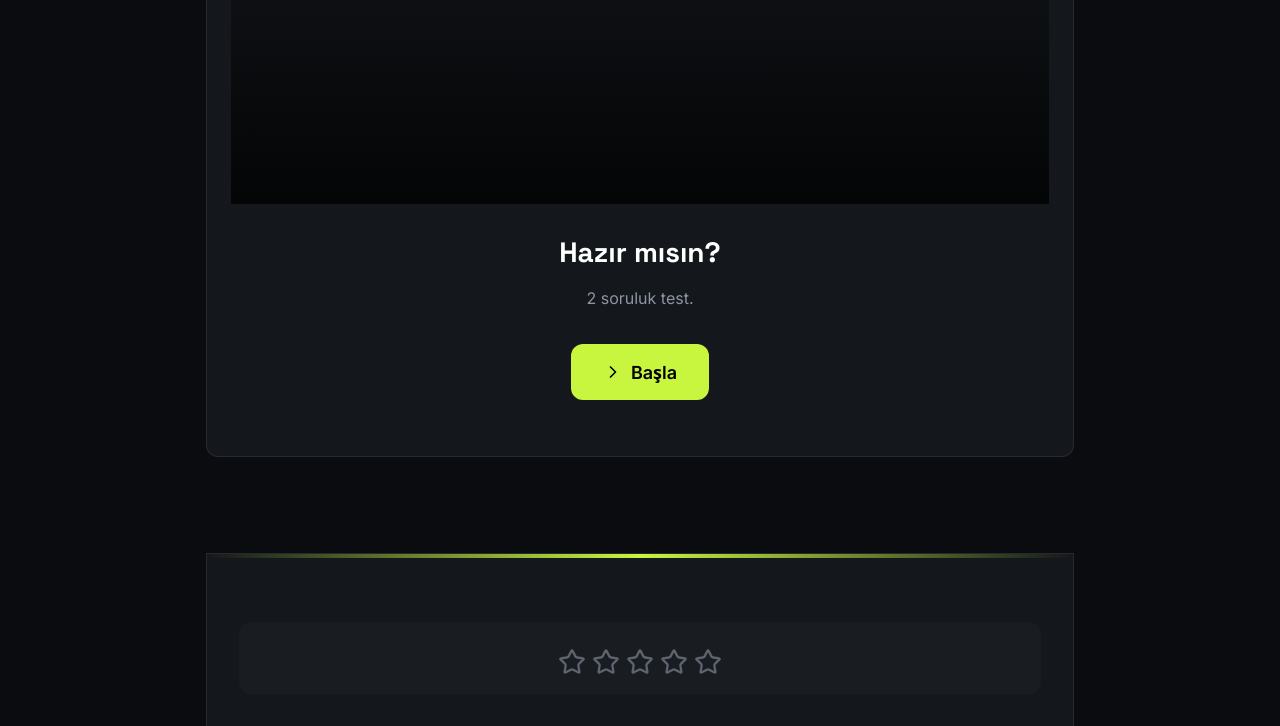
it: QuizDetail Component › should navigate between questions
(page scrolled)
Start quiz
Step 1. Click the button "Başla" → (640, 372), box [571,344,709,400]
(page scrolled)
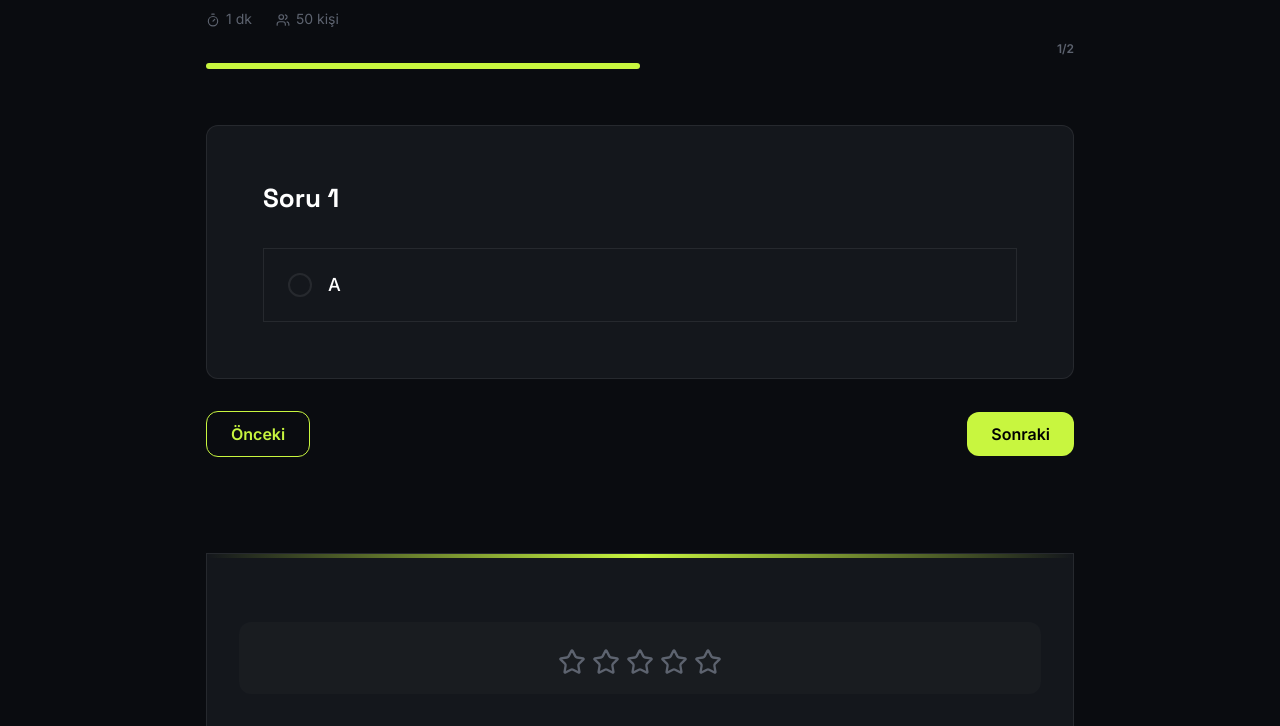
Now the heading "Soru 1" is shown, box [263,181,339,215]
Select answer
Step 2. Click the button "A" → (300, 285), box [263,248,1017,322]
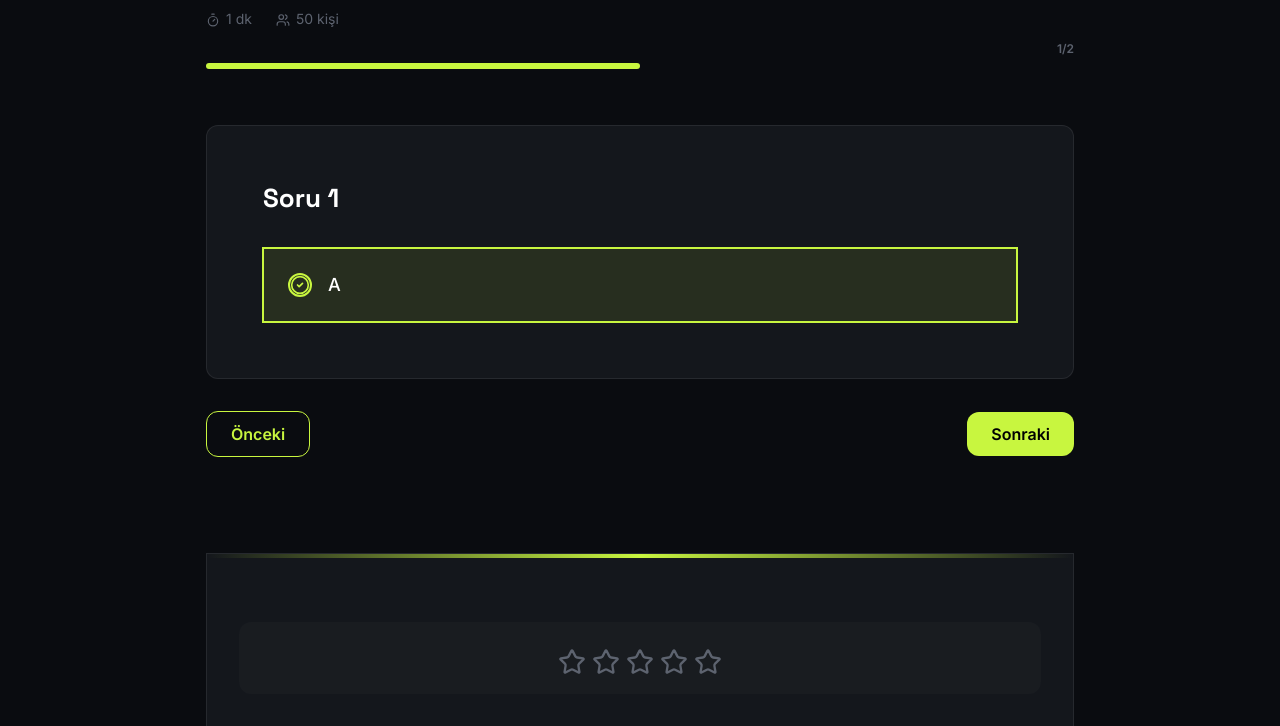
Step 3. Click the button "Sonraki" → (1021, 434), box [967,412,1074,456]
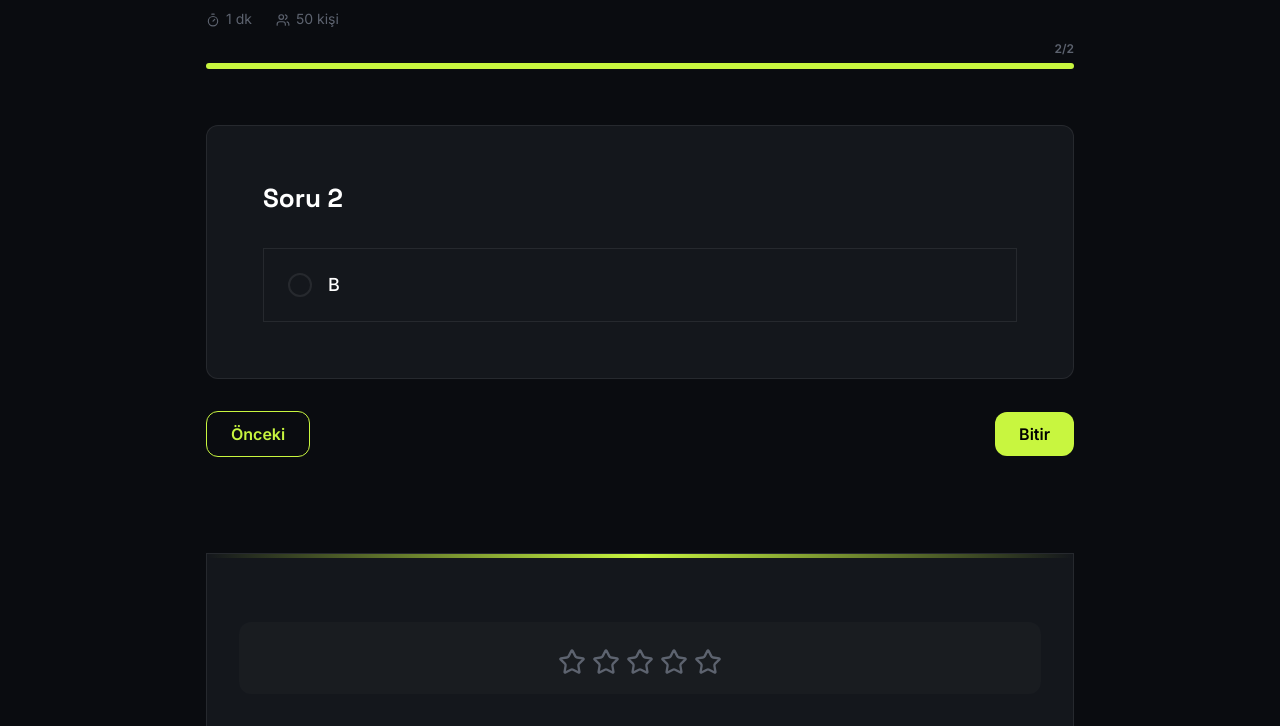
Now the heading "Soru 2" is shown, box [263,181,343,215]
